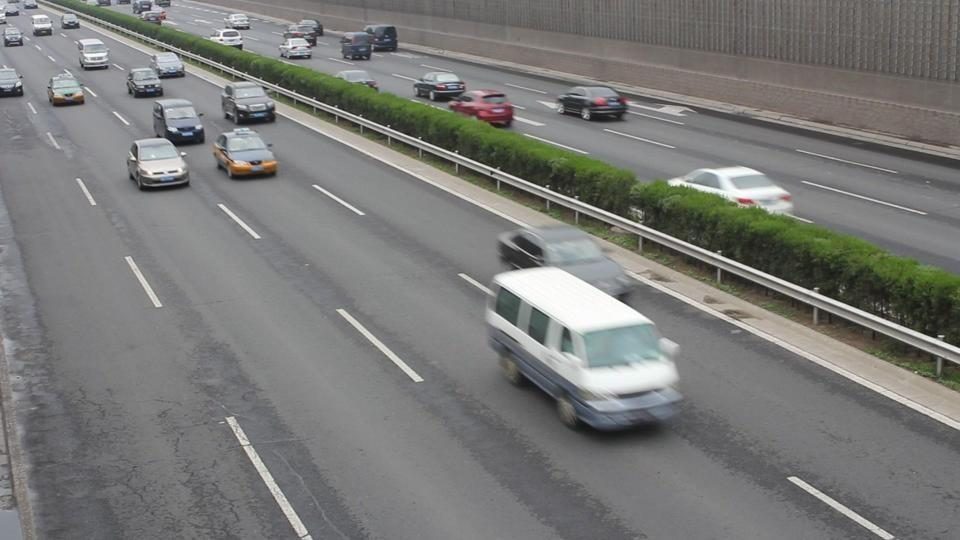car: (484, 265, 684, 434), (494, 225, 635, 299), (668, 165, 795, 216), (126, 137, 190, 189), (212, 128, 278, 178), (447, 88, 515, 128), (557, 85, 629, 121), (151, 99, 206, 145), (221, 81, 277, 126), (413, 71, 467, 103), (47, 71, 85, 106), (73, 37, 110, 70), (126, 67, 163, 98), (0, 66, 24, 97), (30, 14, 54, 37), (3, 27, 24, 47)
